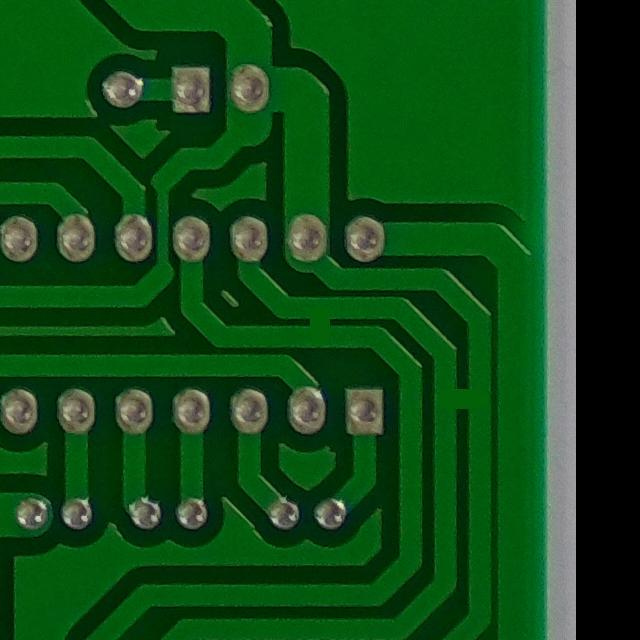short: (285, 287, 356, 354)
